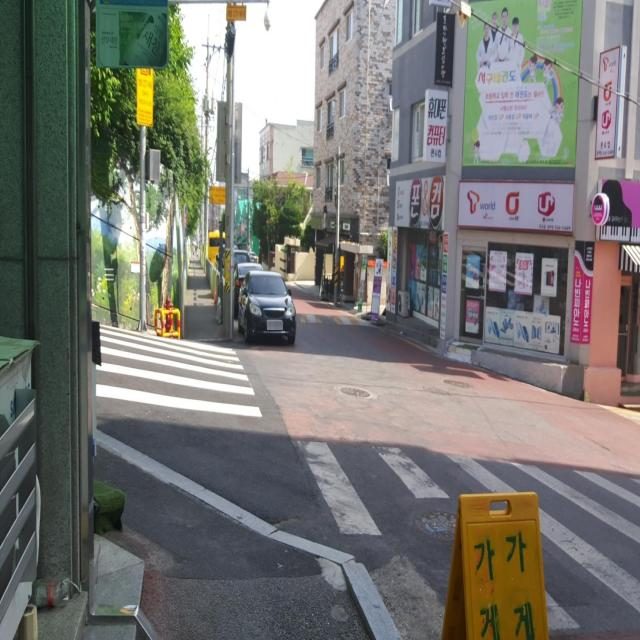횡단보도: (297, 438, 640, 637), (95, 322, 263, 419)
